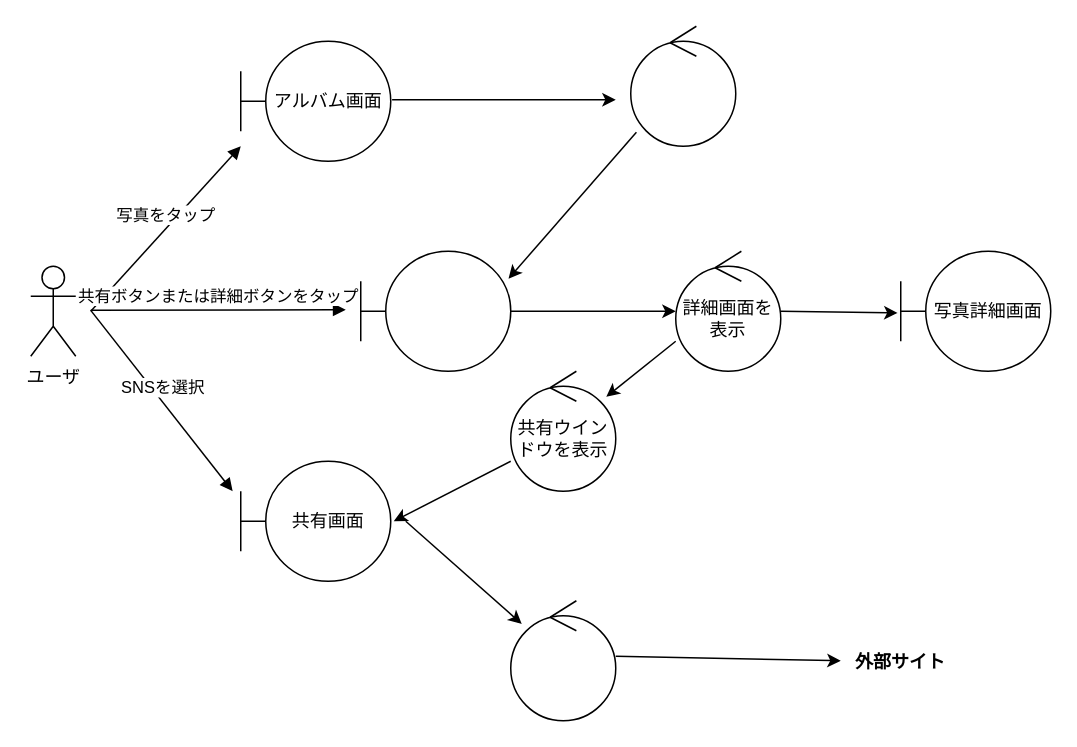
This 1077x747 diagram has some shape labels left out. The box of each missing label's shape, as (x1, y1, x2, y2) in pixels:
写真の拡大画像: (359, 250, 511, 371)
写真の拡大画像ウインドウを表示: (629, 25, 736, 146)
外部サイトに遷移させる: (509, 599, 616, 721)
